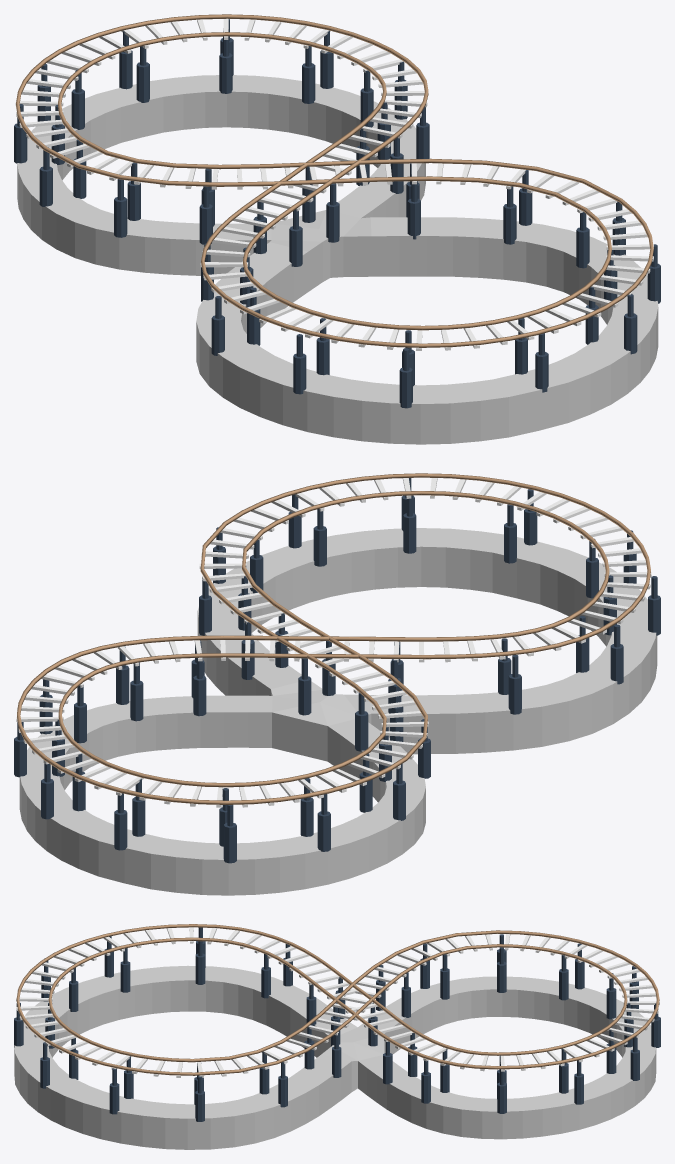
File: RC_Playground_05.fbx
The picture shows the model from 3 angles, top to bottom: view 1: azimuth 30°, elevation 25°; view 2: azimuth 150°, elevation 25°; view 3: azimuth 270°, elevation 25°; orthographic projection. The views are drawn at different scales.
Visible parts, largest first — view 1: Platform.009, Columns.009, Path.013, RailStep.012; view 2: Platform.009, Columns.009, Path.013, RailStep.012; view 3: Platform.009, Columns.009, Path.013, RailStep.012.
Boxes of the visible parts, bbox=[...] form: Platform.009: bbox=[17, 75, 658, 444]; Columns.009: bbox=[14, 19, 660, 408]; Path.013: bbox=[16, 14, 653, 347]; RailStep.012: bbox=[15, 18, 653, 350]; Platform.009: bbox=[19, 528, 657, 895]; Columns.009: bbox=[14, 478, 660, 863]; Path.013: bbox=[17, 473, 650, 804]; RailStep.012: bbox=[16, 478, 651, 807]; Platform.009: bbox=[14, 965, 656, 1149]; Columns.009: bbox=[14, 927, 660, 1121]; Path.013: bbox=[16, 924, 659, 1075]; RailStep.012: bbox=[16, 927, 659, 1077].
Size of the model in its own units: 2404 by 544 by 4256.
